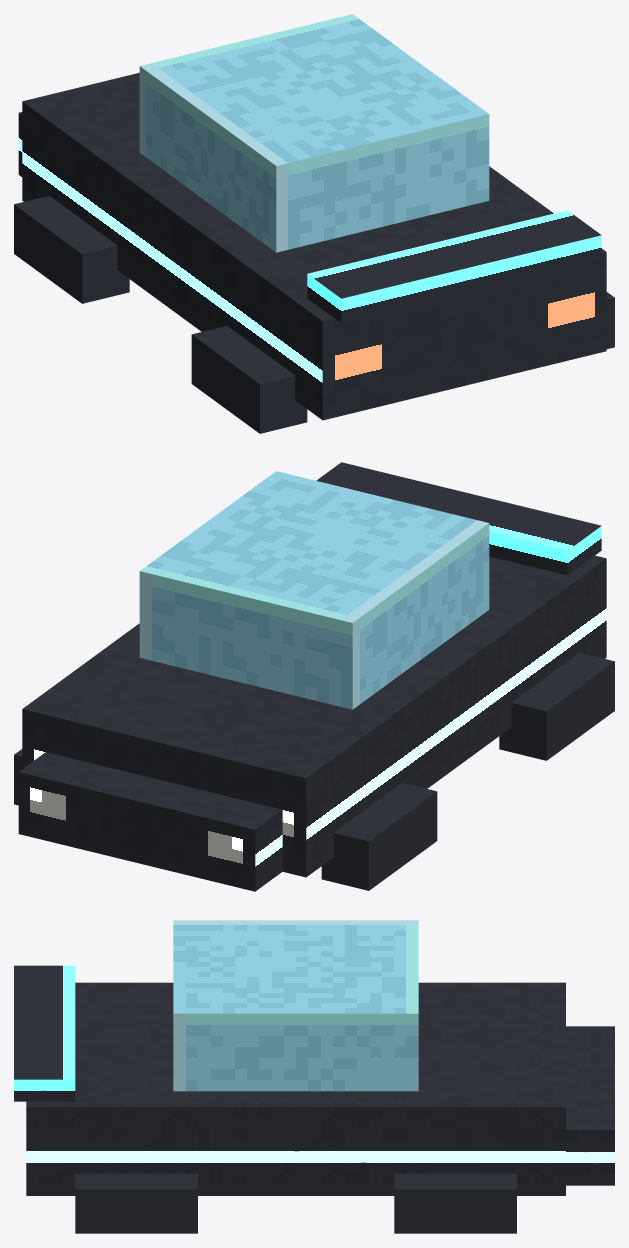
Rendered from flying_car_5.glb.
3 views of the same model, one above another, from view 1: azimuth 30°, elevation 25°; view 2: azimuth 150°, elevation 25°; view 3: azimuth 270°, elevation 25° (orthographic). The views are drawn at different scales.
Visible parts, largest first — view 1: flying_car_5_hull, flying_car_5_canopy, flying_car_5_spoiler, flying_car_5_pod_lb, flying_car_5_pod_lf; view 2: flying_car_5_hull, flying_car_5_canopy, flying_car_5_nose, flying_car_5_spoiler, flying_car_5_pod_lf, flying_car_5_pod_lb; view 3: flying_car_5_hull, flying_car_5_canopy, flying_car_5_spoiler, flying_car_5_nose, flying_car_5_pod_rb, flying_car_5_pod_rf.
Boxes of the visible parts, left/top/right/bottom form: flying_car_5_hull: left=22, top=72, right=606, bottom=420; flying_car_5_canopy: left=139, top=14, right=489, bottom=252; flying_car_5_spoiler: left=307, top=210, right=601, bottom=323; flying_car_5_pod_lb: left=191, top=326, right=307, bottom=433; flying_car_5_pod_lf: left=14, top=195, right=129, bottom=303; flying_car_5_hull: left=22, top=555, right=606, bottom=877; flying_car_5_canopy: left=139, top=471, right=489, bottom=709; flying_car_5_nose: left=18, top=752, right=282, bottom=891; flying_car_5_spoiler: left=316, top=462, right=601, bottom=575; flying_car_5_pod_lf: left=321, top=783, right=437, bottom=890; flying_car_5_pod_lb: left=499, top=652, right=614, bottom=760; flying_car_5_hull: left=26, top=982, right=565, bottom=1195; flying_car_5_canopy: left=173, top=920, right=418, bottom=1091; flying_car_5_spoiler: left=14, top=965, right=75, bottom=1101; flying_car_5_nose: left=566, top=1026, right=614, bottom=1185; flying_car_5_pod_rb: left=75, top=1173, right=197, bottom=1233; flying_car_5_pod_rf: left=394, top=1173, right=516, bottom=1233.
Bounding box in the file's own units: 1.88 × 1.06 × 3.06.
Materials: 1 (1 with a texture image).
